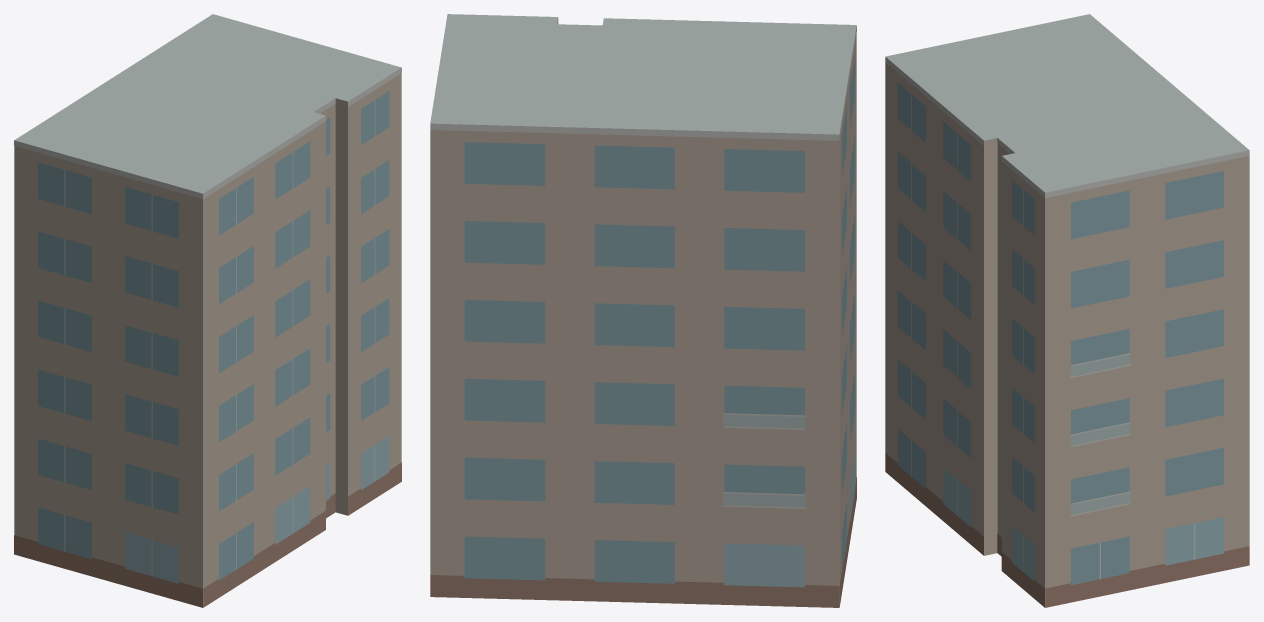
The model's file is survey-upis-32659095.glb.
3 renders of one model, left to right at view 1: azimuth 30°, elevation 25°; view 2: azimuth 150°, elevation 25°; view 3: azimuth 270°, elevation 25°, orthographic. The views are drawn at different scales.
Visible parts, largest first — view 1: survey-upis-32659095.tmp; view 2: survey-upis-32659095.tmp; view 3: survey-upis-32659095.tmp.
Part boxes in pixels (bbox=[...]): survey-upis-32659095.tmp: bbox=[14, 14, 401, 607]; survey-upis-32659095.tmp: bbox=[430, 14, 856, 607]; survey-upis-32659095.tmp: bbox=[885, 14, 1249, 607].
Size of the model in its own units: 16.9 by 18.3 by 14.57.
